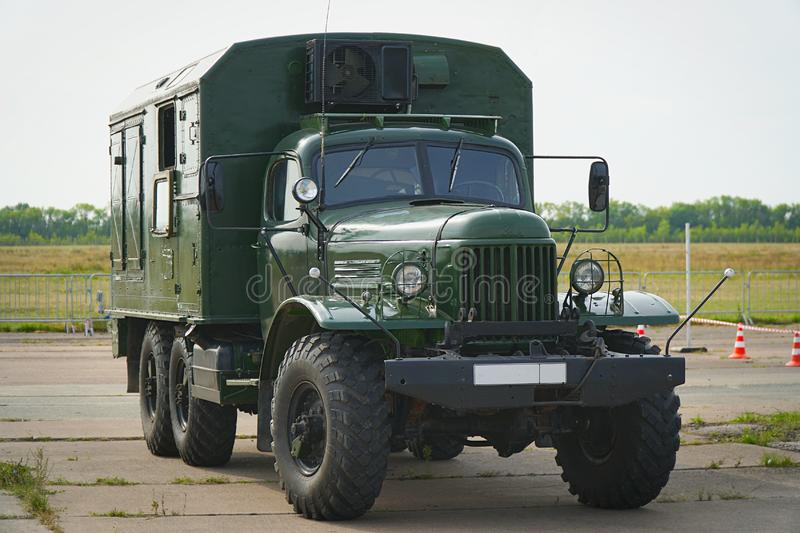camion: (108, 39, 681, 514)
